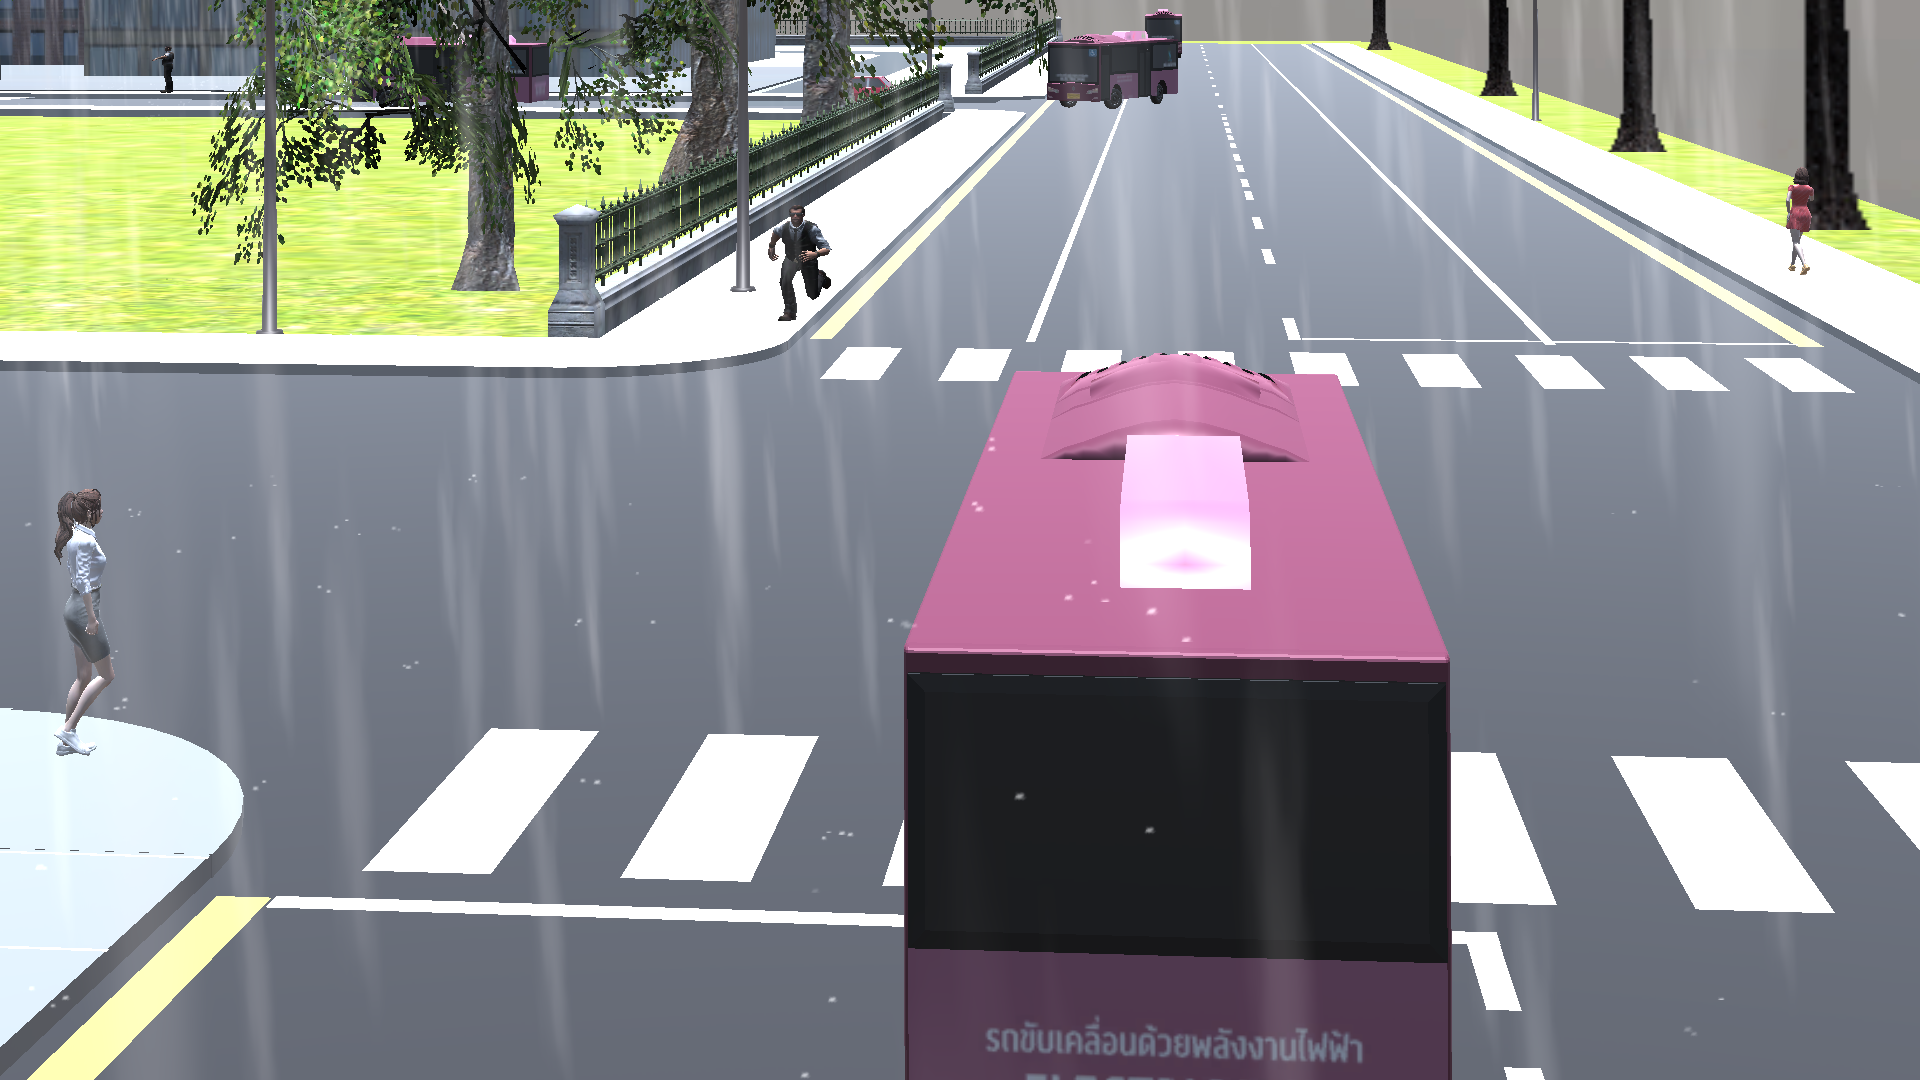pedestrian: (30, 475, 127, 765), (763, 193, 841, 329), (1772, 162, 1825, 288), (150, 43, 178, 97)
